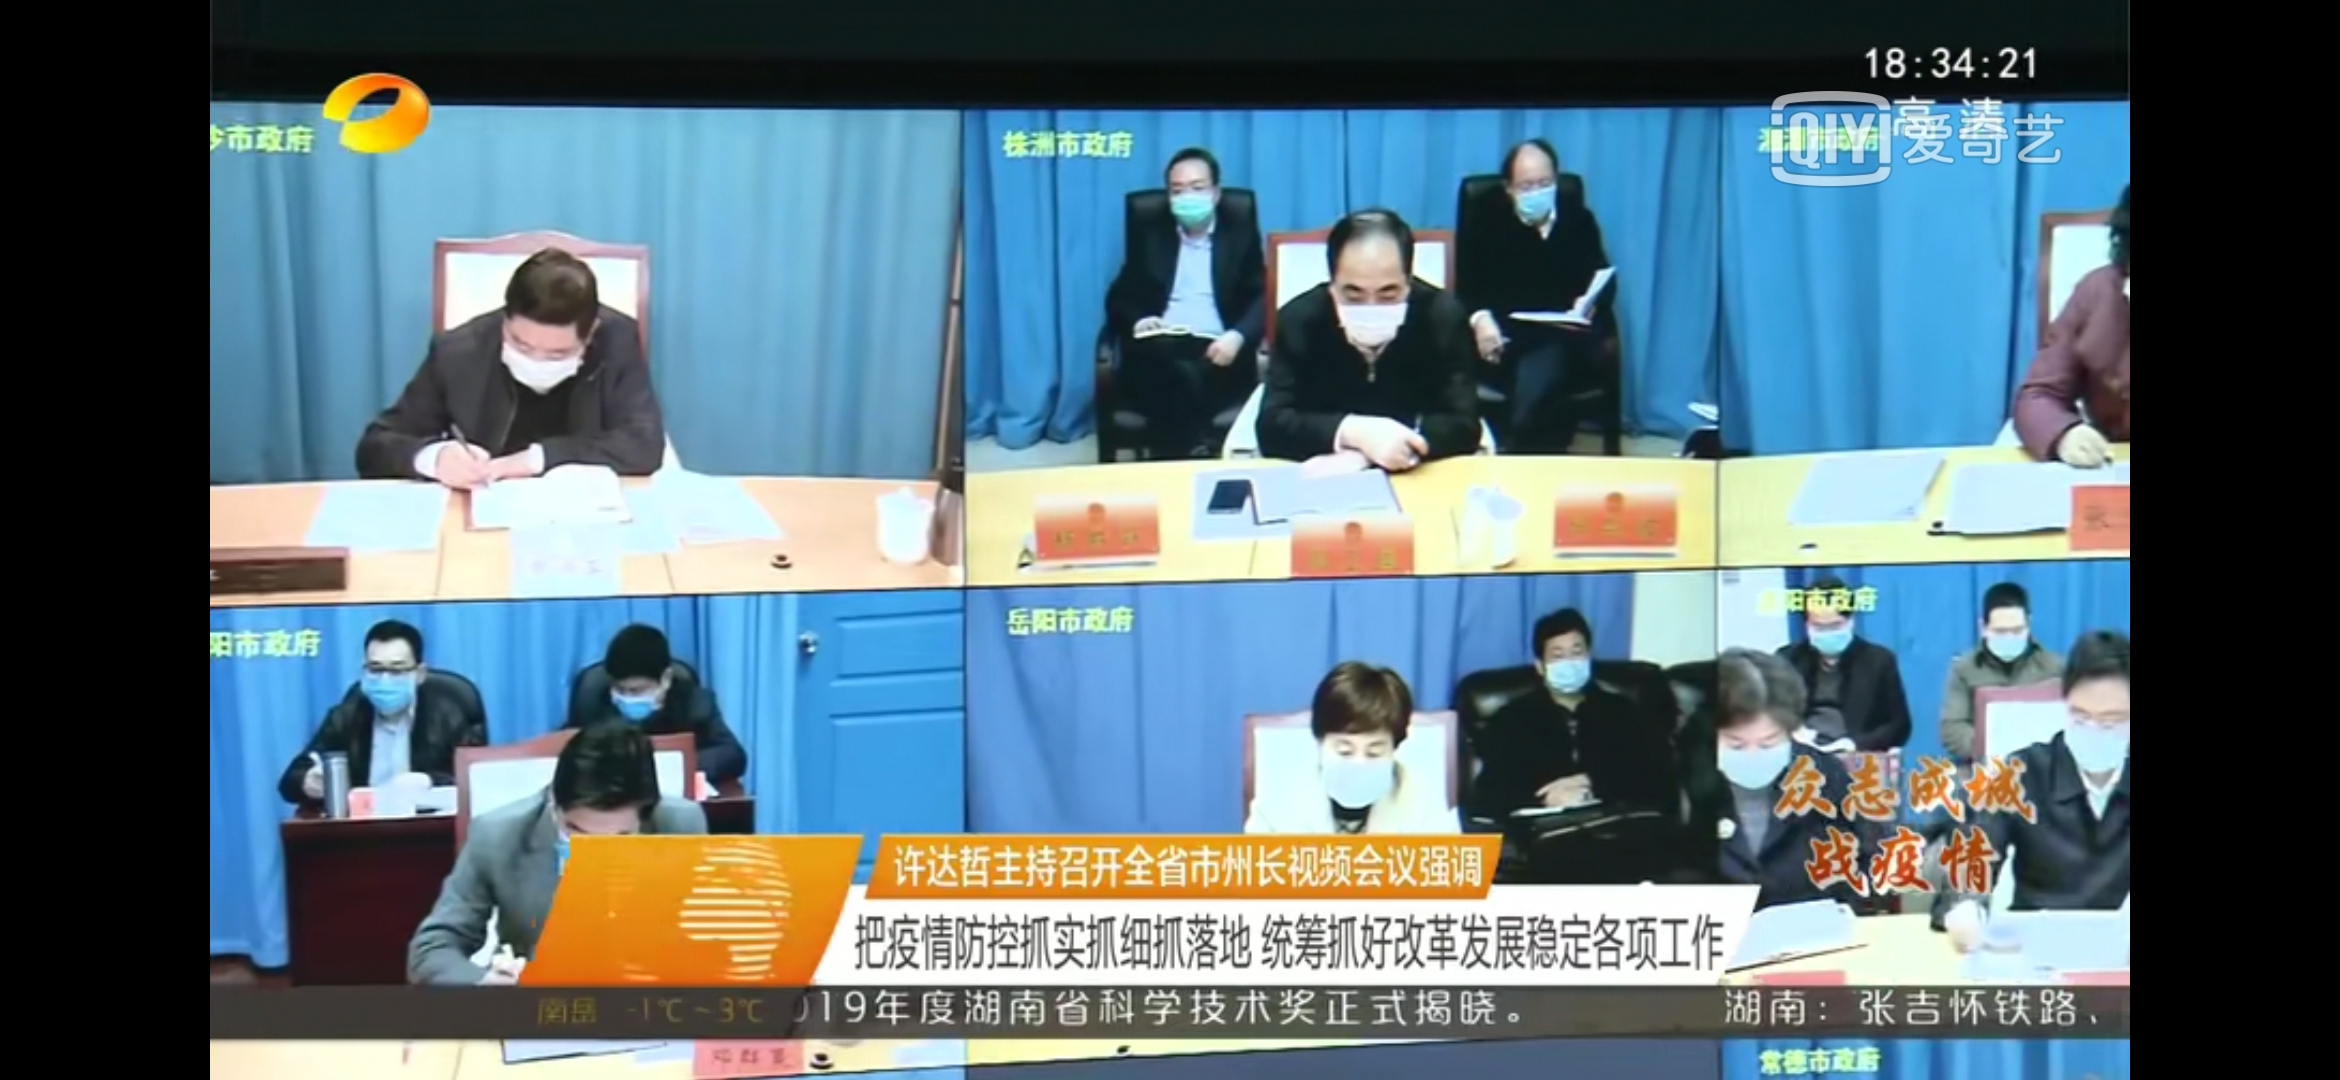correctlyWear: (1312, 710, 1400, 809), (1325, 252, 1415, 348), (494, 307, 586, 395), (2059, 691, 2133, 788), (1713, 709, 1795, 791), (357, 641, 430, 718), (604, 652, 673, 720), (1501, 152, 1560, 225), (1163, 166, 1227, 230), (1531, 634, 1592, 692), (1980, 600, 2031, 662), (1804, 612, 1853, 655)
